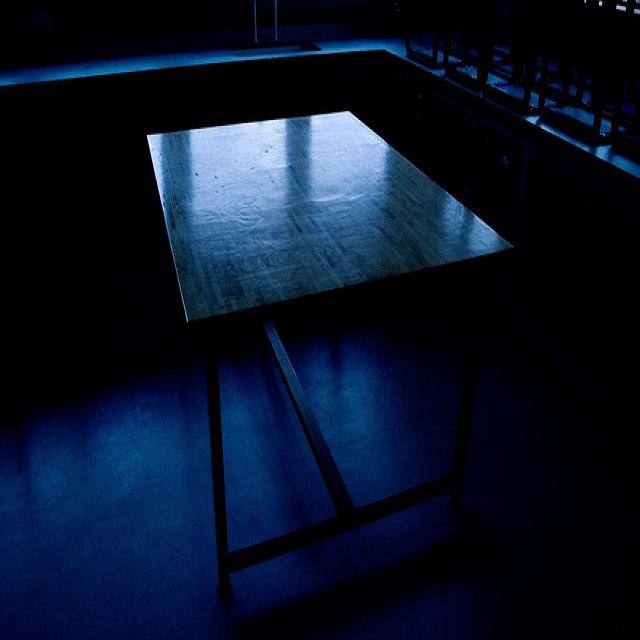Table: (138, 111, 530, 600)
